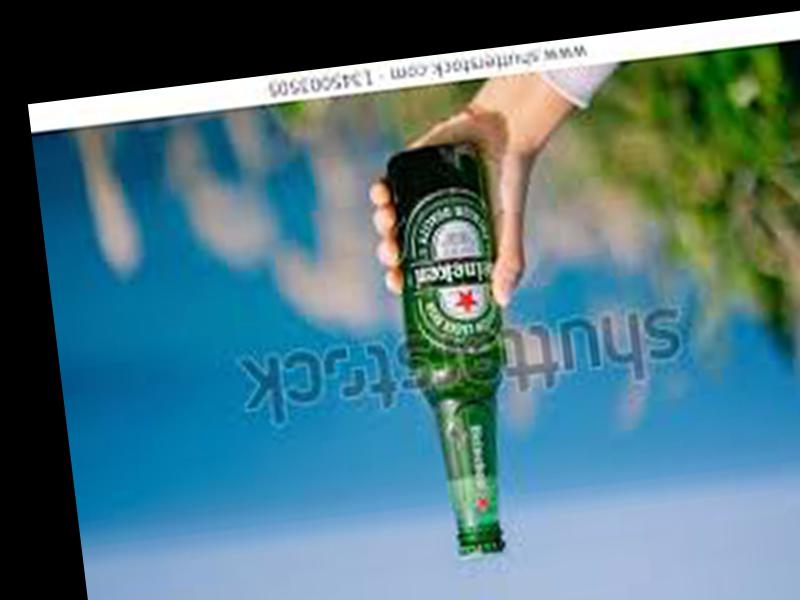Beer: (385, 144, 535, 562)
